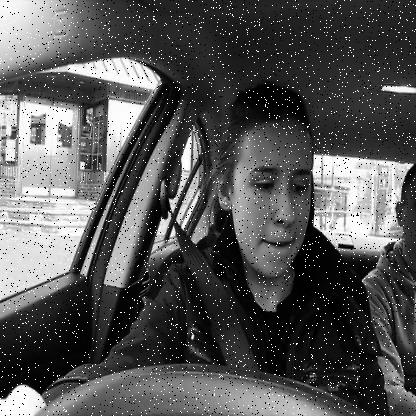seatbelt: (156, 71, 322, 383)
